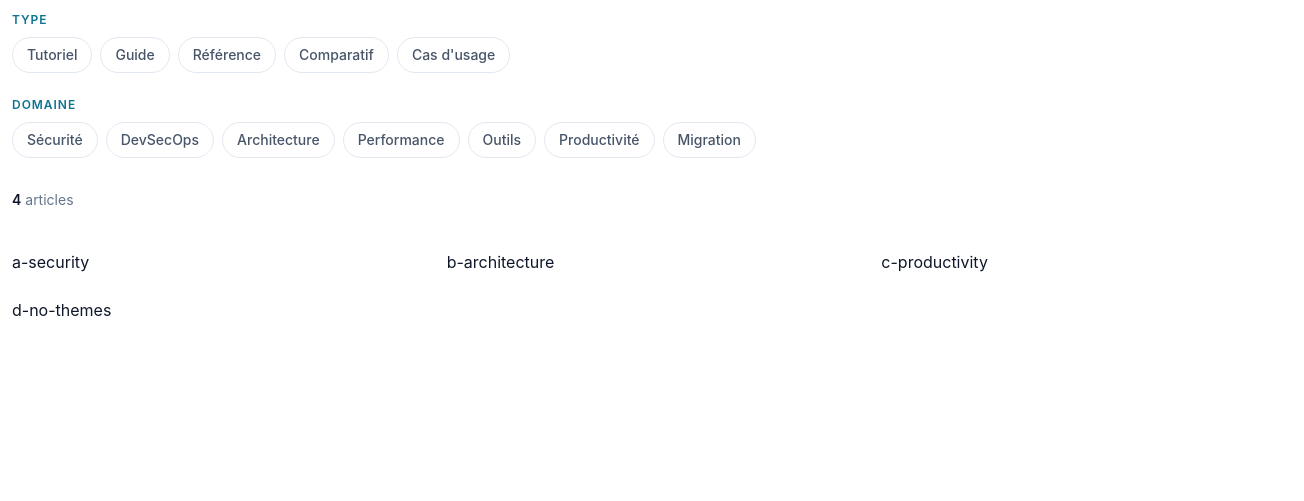
it: ArticleThemeFilter › shows empty state when no article matches active filters
Click the button "Migration" at (709, 140), box left=662, top=122, right=756, bottom=158
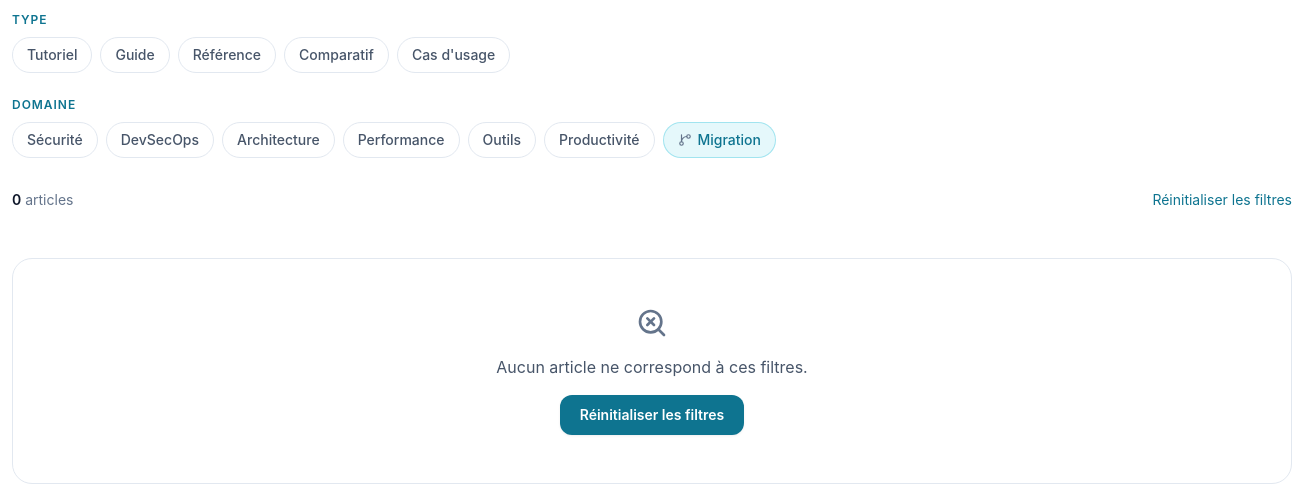
Now the text "Aucun article ne correspond à ces filtres." is shown, box left=496, top=355, right=808, bottom=379
